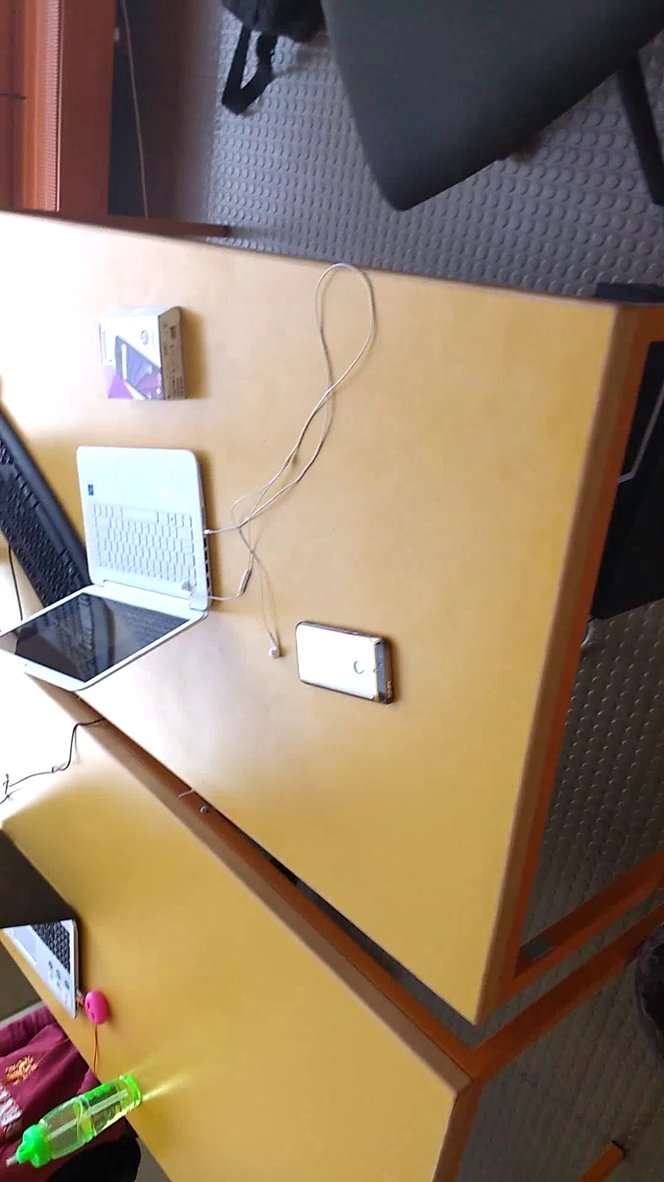laptop: (1, 433, 234, 701)
phone: (280, 616, 413, 711)
